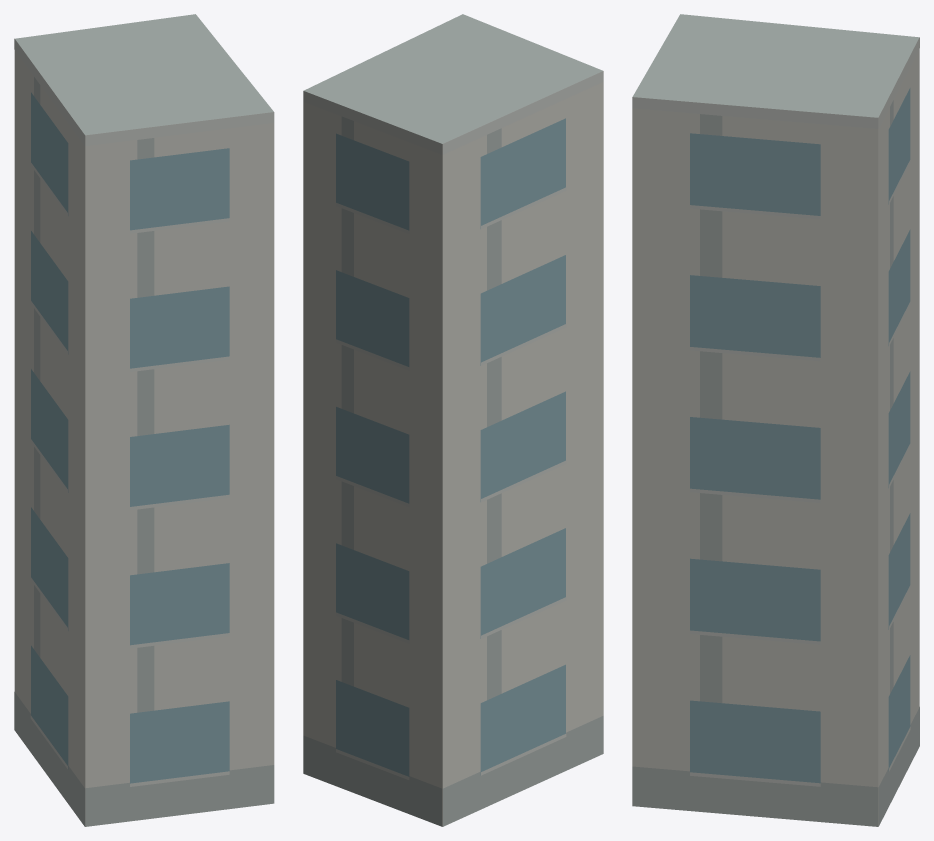
The model's file is survey-upis-32504891.glb.
The picture shows the model from 3 angles, left to right: view 1: azimuth 30°, elevation 25°; view 2: azimuth 150°, elevation 25°; view 3: azimuth 270°, elevation 25°; orthographic projection. The views are drawn at different scales.
Parts seen in each view (by area): view 1: survey-upis-32504891.tmp; view 2: survey-upis-32504891.tmp; view 3: survey-upis-32504891.tmp.
Part boxes in pixels (box(x1,y1,x2,y2)): survey-upis-32504891.tmp: box(14, 14, 274, 826); survey-upis-32504891.tmp: box(303, 14, 603, 826); survey-upis-32504891.tmp: box(632, 14, 919, 826).
Bounding box in the file's own units: 4.8 × 15.25 × 5.61.
